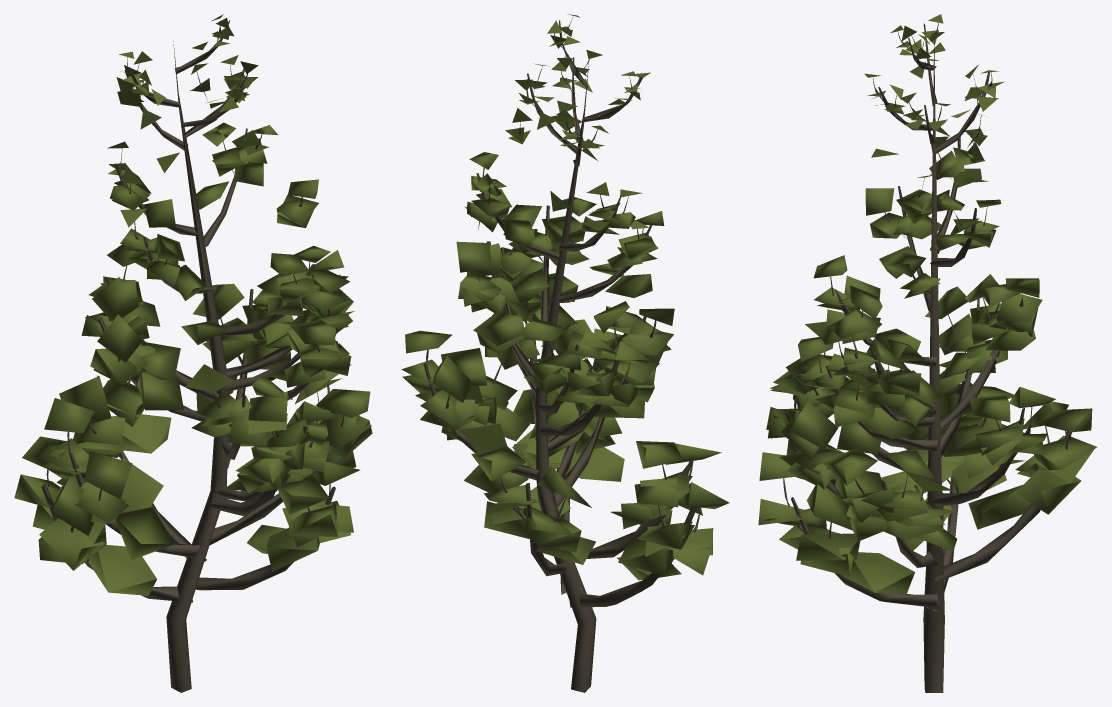
The model's file is Tree_BlackWillow_007.fbx.
3 views of the same model, side by side, from view 1: azimuth 30°, elevation 25°; view 2: azimuth 150°, elevation 25°; view 3: azimuth 270°, elevation 25° (orthographic). The views are drawn at different scales.
Visible parts, largest first — view 1: Tree_BlackWillow.007; view 2: Tree_BlackWillow.007; view 3: Tree_BlackWillow.007.
Part boxes in pixels (left/top/right/bottom): Tree_BlackWillow.007: left=14, top=14, right=372, bottom=692; Tree_BlackWillow.007: left=401, top=14, right=729, bottom=692; Tree_BlackWillow.007: left=758, top=14, right=1096, bottom=692.
Bounding box in the file's own units: 1354 × 2920 × 1328.
